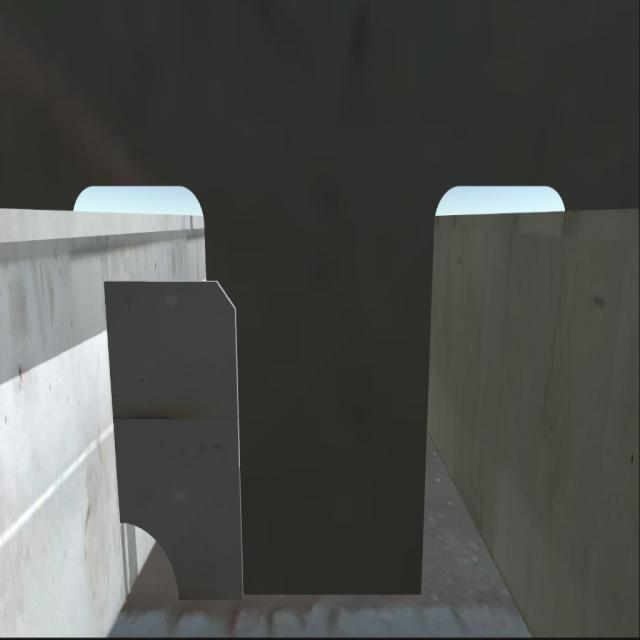fillet_hole: (119, 519, 186, 599)
fillet_yong_jeop_jang: (185, 580, 424, 618)
longi_yong_jeop_jang: (104, 274, 119, 525)
plate_CP03: (110, 281, 246, 604)
